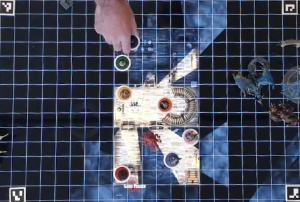blue: (123, 33, 141, 51)
green: (113, 53, 133, 71)
orange: (157, 96, 176, 112)
pink: (181, 126, 197, 144)
red: (113, 163, 129, 183)
violet: (162, 150, 179, 169)
yellow: (115, 83, 133, 101)
